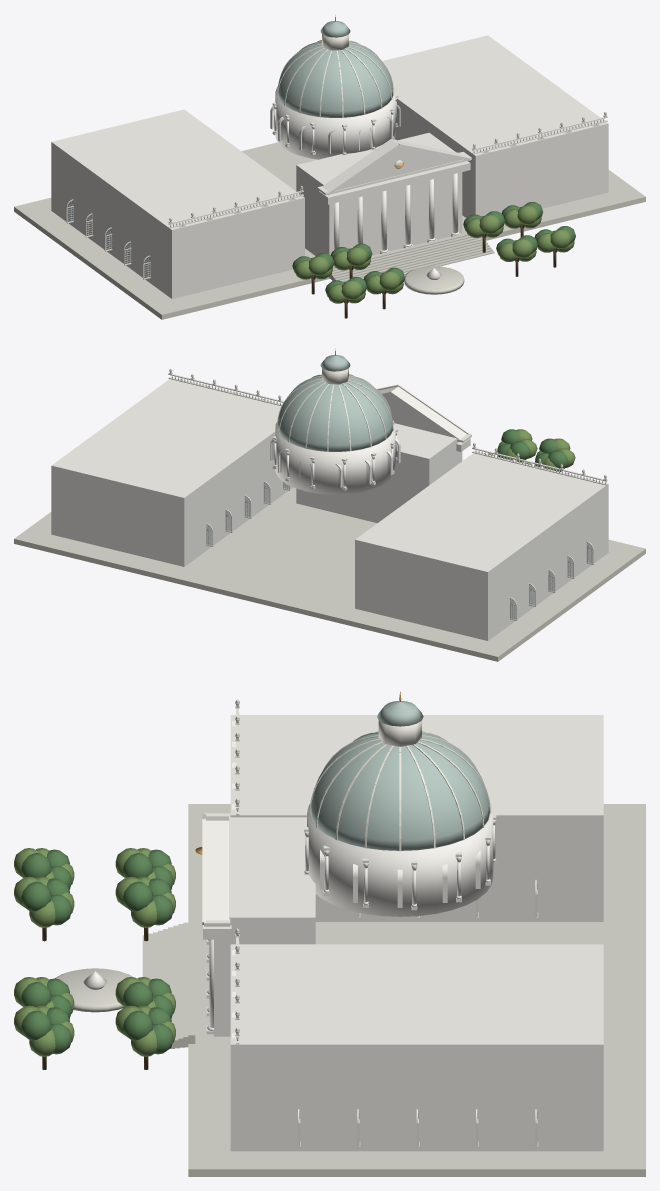
The model's file is town-hall.glb.
The picture shows the model from 3 angles, top to bottom: view 1: azimuth 30°, elevation 25°; view 2: azimuth 150°, elevation 25°; view 3: azimuth 270°, elevation 25°; orthographic projection. The views are drawn at different scales.
Parts seen in each view (by area): view 1: 03 Upper colonnaded loggia and piano nobile / White plaster, 04 Grand hexastyle Corinthian portico / White plaster, 01 Neoclassical podium and carriage drive / Limestone, 02 Rusticated ground arcade and wings / White plaster, 06 Monumental ribbed neoclassical dome / Verdigris Dome, 07 Front garden forecourt, fountain and palms / Leaves light, 05 Towering cylindrical drum and clerestory / White plaster, 04 Grand hexastyle Corinthian portico / White plaster.001, 07 Front garden forecourt, fountain and palms / Leaves, 06 Monumental ribbed neoclassical dome / Ivory, 07 Front garden forecourt, fountain and palms / Limestone, 05 Towering cylindrical drum and clerestory / White plaster. (+2 smaller); view 2: 03 Upper colonnaded loggia and piano nobile / White plaster, 01 Neoclassical podium and carriage drive / Limestone, 02 Rusticated ground arcade and wings / White plaster, 04 Grand hexastyle Corinthian portico / White plaster, 06 Monumental ribbed neoclassical dome / Verdigris Dome, 05 Towering cylindrical drum and clerestory / White plaster, 06 Monumental ribbed neoclassical dome / Ivory, 07 Front garden forecourt, fountain and palms / Leaves, 02 Rusticated ground arcade and wings / Glass shade, 07 Front garden forecourt, fountain and palms / Leaves light, 02 Rusticated ground arcade and wings / Ivory, 05 Towering cylindrical drum and clerestory / White plaster. (+1 smaller); view 3: 03 Upper colonnaded loggia and piano nobile / White plaster, 01 Neoclassical podium and carriage drive / Limestone, 02 Rusticated ground arcade and wings / White plaster, 06 Monumental ribbed neoclassical dome / Verdigris Dome, 04 Grand hexastyle Corinthian portico / White plaster, 05 Towering cylindrical drum and clerestory / White plaster, 07 Front garden forecourt, fountain and palms / Leaves, 07 Front garden forecourt, fountain and palms / Leaves light, 06 Monumental ribbed neoclassical dome / Ivory, 07 Front garden forecourt, fountain and palms / Limestone, 05 Towering cylindrical drum and clerestory / White plaster., 06 Monumental ribbed neoclassical dome / Ivory.001 (+1 smaller).
Boxes of the visible parts, x1=… form: 03 Upper colonnaded loggia and piano nobile / White plaster: x1=51, y1=35, x2=608, y2=266; 04 Grand hexastyle Corinthian portico / White plaster: x1=296, y1=132, x2=471, y2=255; 01 Neoclassical podium and carriage drive / Limestone: x1=14, y1=142, x2=645, y2=319; 02 Rusticated ground arcade and wings / White plaster: x1=51, y1=134, x2=608, y2=298; 06 Monumental ribbed neoclassical dome / Verdigris Dome: x1=277, y1=21, x2=393, y2=117; 07 Front garden forecourt, fountain and palms / Leaves light: x1=294, y1=205, x2=574, y2=303; 05 Towering cylindrical drum and clerestory / White plaster: x1=272, y1=86, x2=397, y2=159; 04 Grand hexastyle Corinthian portico / White plaster.001: x1=334, y1=160, x2=459, y2=252; 07 Front garden forecourt, fountain and palms / Leaves: x1=292, y1=202, x2=575, y2=296; 06 Monumental ribbed neoclassical dome / Ivory: x1=277, y1=40, x2=393, y2=117; 07 Front garden forecourt, fountain and palms / Limestone: x1=404, y1=266, x2=464, y2=294; 05 Towering cylindrical drum and clerestory / White plaster.: x1=270, y1=94, x2=400, y2=155; 03 Upper colonnaded loggia and piano nobile / White plaster: x1=51, y1=374, x2=608, y2=608; 01 Neoclassical podium and carriage drive / Limestone: x1=14, y1=487, x2=645, y2=661; 02 Rusticated ground arcade and wings / White plaster: x1=51, y1=469, x2=608, y2=640; 04 Grand hexastyle Corinthian portico / White plaster: x1=296, y1=384, x2=471, y2=523; 06 Monumental ribbed neoclassical dome / Verdigris Dome: x1=277, y1=355, x2=393, y2=451; 05 Towering cylindrical drum and clerestory / White plaster: x1=273, y1=420, x2=397, y2=494; 06 Monumental ribbed neoclassical dome / Ivory: x1=277, y1=374, x2=393, y2=451; 07 Front garden forecourt, fountain and palms / Leaves: x1=497, y1=429, x2=568, y2=468; 02 Rusticated ground arcade and wings / Glass shade: x1=206, y1=482, x2=592, y2=619; 07 Front garden forecourt, fountain and palms / Leaves light: x1=489, y1=429, x2=575, y2=471; 02 Rusticated ground arcade and wings / Ivory: x1=206, y1=481, x2=594, y2=620; 05 Towering cylindrical drum and clerestory / White plaster.: x1=270, y1=429, x2=400, y2=490; 03 Upper colonnaded loggia and piano nobile / White plaster: x1=230, y1=708, x2=603, y2=1101; 01 Neoclassical podium and carriage drive / Limestone: x1=142, y1=804, x2=645, y2=1176; 02 Rusticated ground arcade and wings / White plaster: x1=230, y1=872, x2=603, y2=1151; 06 Monumental ribbed neoclassical dome / Verdigris Dome: x1=310, y1=701, x2=489, y2=850; 04 Grand hexastyle Corinthian portico / White plaster: x1=202, y1=813, x2=315, y2=1036; 05 Towering cylindrical drum and clerestory / White plaster: x1=304, y1=804, x2=496, y2=916; 07 Front garden forecourt, fountain and palms / Leaves: x1=21, y1=849, x2=173, y2=1054; 07 Front garden forecourt, fountain and palms / Leaves light: x1=14, y1=848, x2=175, y2=1056; 06 Monumental ribbed neoclassical dome / Ivory: x1=309, y1=732, x2=490, y2=851; 07 Front garden forecourt, fountain and palms / Limestone: x1=55, y1=968, x2=133, y2=1012; 05 Towering cylindrical drum and clerestory / White plaster.: x1=304, y1=815, x2=496, y2=910; 06 Monumental ribbed neoclassical dome / Ivory.001: x1=378, y1=720, x2=421, y2=746.
Bounding box in the file's own units: 102 × 39.6 × 74.59.
